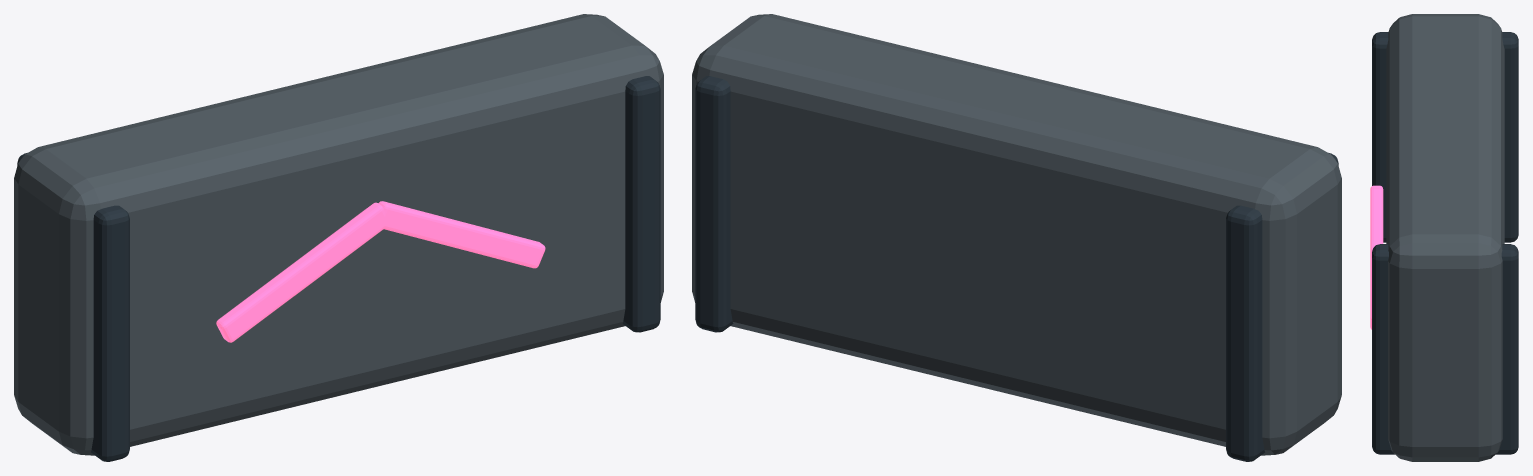
Rendered from vault-barrier.glb.
3 views of the same model, side by side, from view 1: azimuth 30°, elevation 25°; view 2: azimuth 150°, elevation 25°; view 3: azimuth 270°, elevation 25° (orthographic). The views are drawn at different scales.
Parts seen in each view (by area): view 1: vault_barrier_surface_00, vault_barrier_surface_01, vault_barrier_surface_02; view 2: vault_barrier_surface_00, vault_barrier_surface_01; view 3: vault_barrier_surface_00, vault_barrier_surface_01, vault_barrier_surface_02.
Boxes of the visible parts, left/top/right/bottom form: vault_barrier_surface_00: left=14, top=14, right=663, bottom=455; vault_barrier_surface_01: left=17, top=76, right=660, bottom=461; vault_barrier_surface_02: left=216, top=201, right=545, bottom=342; vault_barrier_surface_00: left=692, top=14, right=1341, bottom=455; vault_barrier_surface_01: left=695, top=76, right=1338, bottom=461; vault_barrier_surface_00: left=1386, top=14, right=1504, bottom=461; vault_barrier_surface_01: left=1372, top=32, right=1518, bottom=454; vault_barrier_surface_02: left=1370, top=185, right=1383, bottom=329.
Size of the model in its own units: 2.4 by 1.05 by 0.6275.
